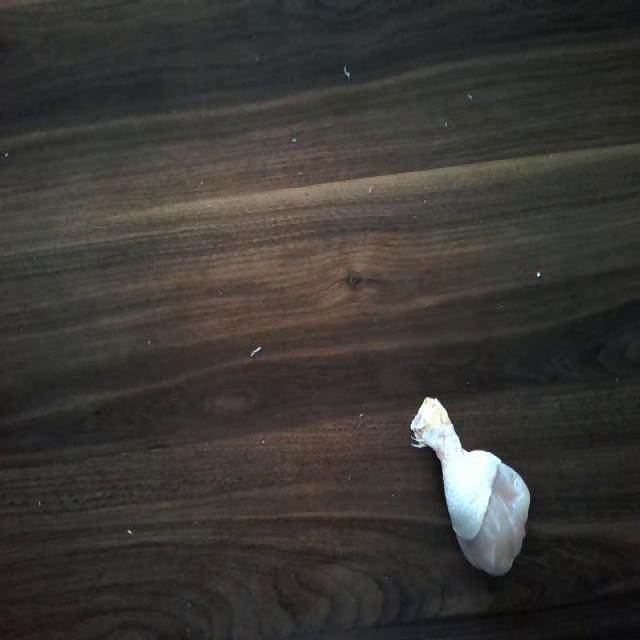leg: (404, 392, 536, 574)
